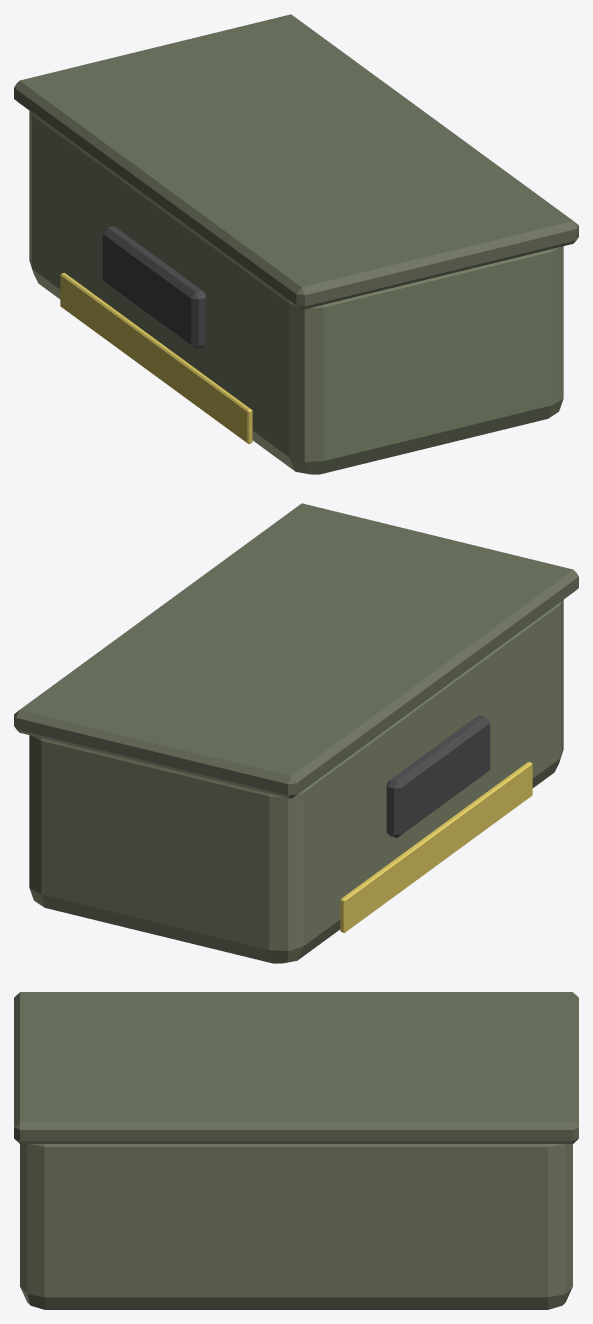
The model's file is part_zasobnik_mg.glb.
3 renders of one model, top to bottom at view 1: azimuth 30°, elevation 25°; view 2: azimuth 150°, elevation 25°; view 3: azimuth 270°, elevation 25°, orthographic. The views are drawn at different scales.
Visible parts, largest first — view 1: Zasobnik_mg; view 2: Zasobnik_mg; view 3: Zasobnik_mg.
Boxes of the visible parts, <box> form: Zasobnik_mg: <box>14,14,578,474</box>; Zasobnik_mg: <box>14,503,578,963</box>; Zasobnik_mg: <box>14,992,578,1309</box>.
Size of the model in its own units: 0.107 by 0.071 by 0.184.
